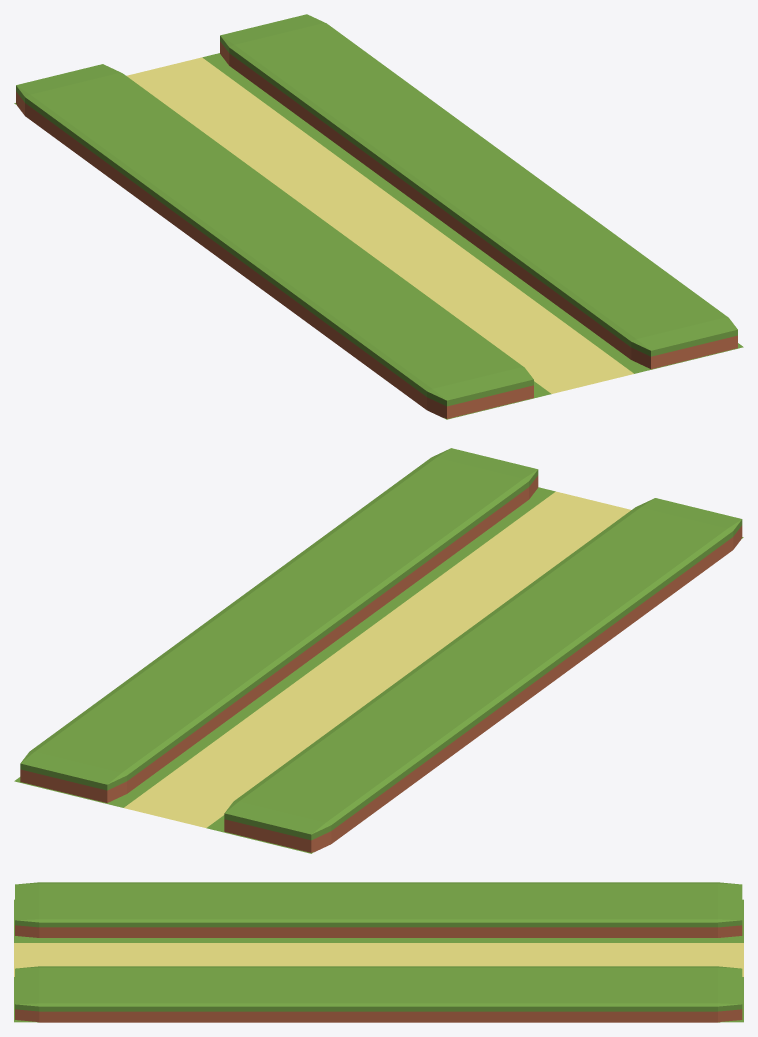
Rendered from Enviroment.fbx.
3 renders of one model, top to bottom at view 1: azimuth 30°, elevation 25°; view 2: azimuth 150°, elevation 25°; view 3: azimuth 270°, elevation 25°, orthographic. The views are drawn at different scales.
Parts seen in each view (by area): view 1: Cube.035, Cube.034, Plane.025; view 2: Cube.035, Cube.034, Plane.025; view 3: Cube.034, Cube.035, Plane.025.
Part boxes in pixels (x1,y1,x2,y2): Cube.035: (16,64,533,418); Cube.034: (220,14,737,369); Plane.025: (14,53,743,419); Cube.035: (224,498,742,852); Cube.034: (20,448,538,802); Plane.025: (14,487,743,853); Cube.034: (15,966,742,1022); Cube.035: (15,882,742,937); Plane.025: (14,899,743,1022).
Bounding box in the file's own units: 10975 × 703 × 27234.
